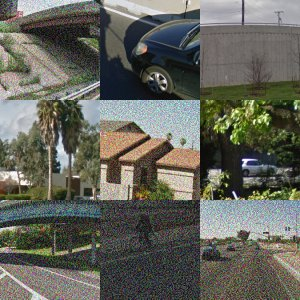汽車: (23, 10, 48, 28)
煙囪: (251, 215, 274, 232)
腳踏車: (132, 233, 164, 280), (232, 130, 266, 167)
自行車: (242, 29, 295, 64)
行人穿越道: (106, 154, 199, 198), (1, 115, 51, 148), (1, 236, 94, 250), (153, 117, 197, 131)
